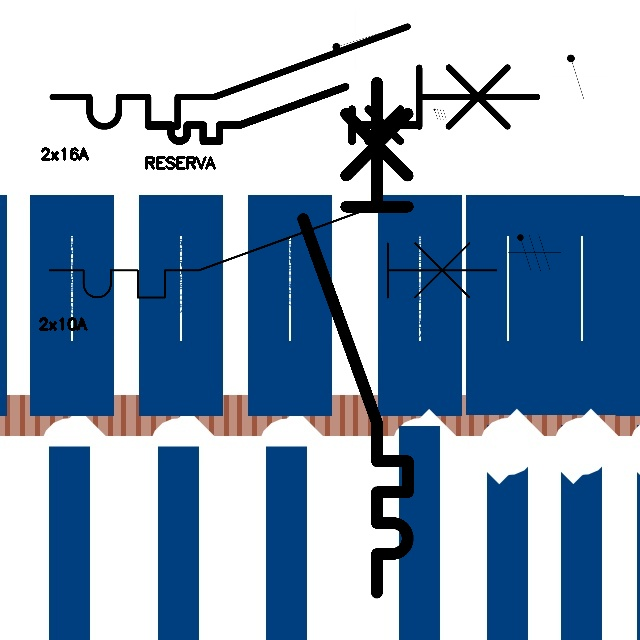interruptor_termomagnetico: (290, 69, 421, 605), (40, 14, 549, 139), (38, 194, 508, 309), (144, 80, 424, 148)
